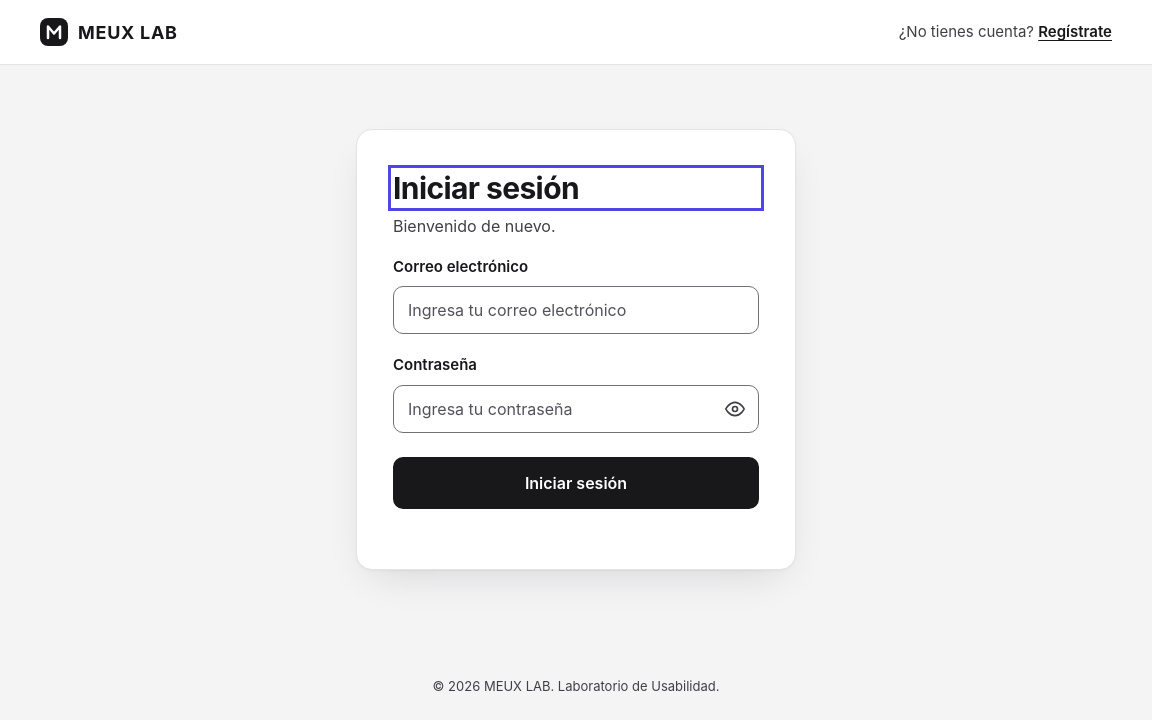
it: LoginScreen › does not display accesibility violations (axe) in normal or error alert states
Type "usuario@correo.com" into the field labelled "Correo electrónico" at {"x": 576, "y": 310}, box [393,286,759,334]
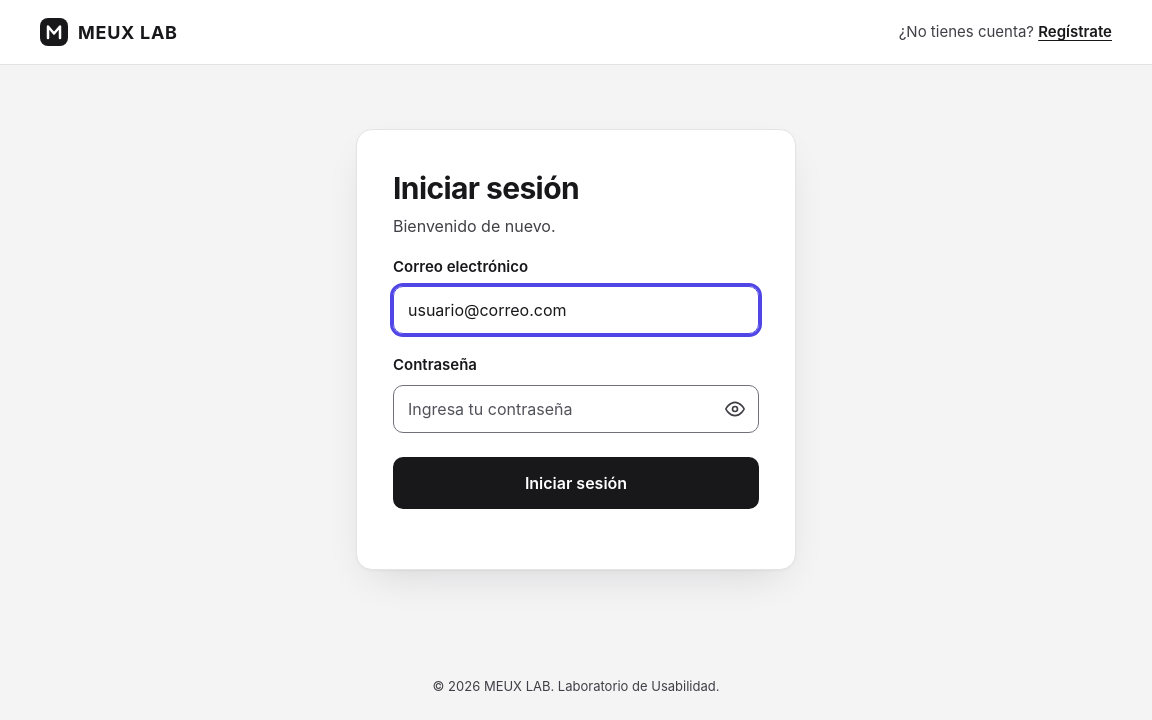
Type "clave-malvada" into the password field labelled "Contraseña" at {"x": 576, "y": 409}, box [393,385,759,433]
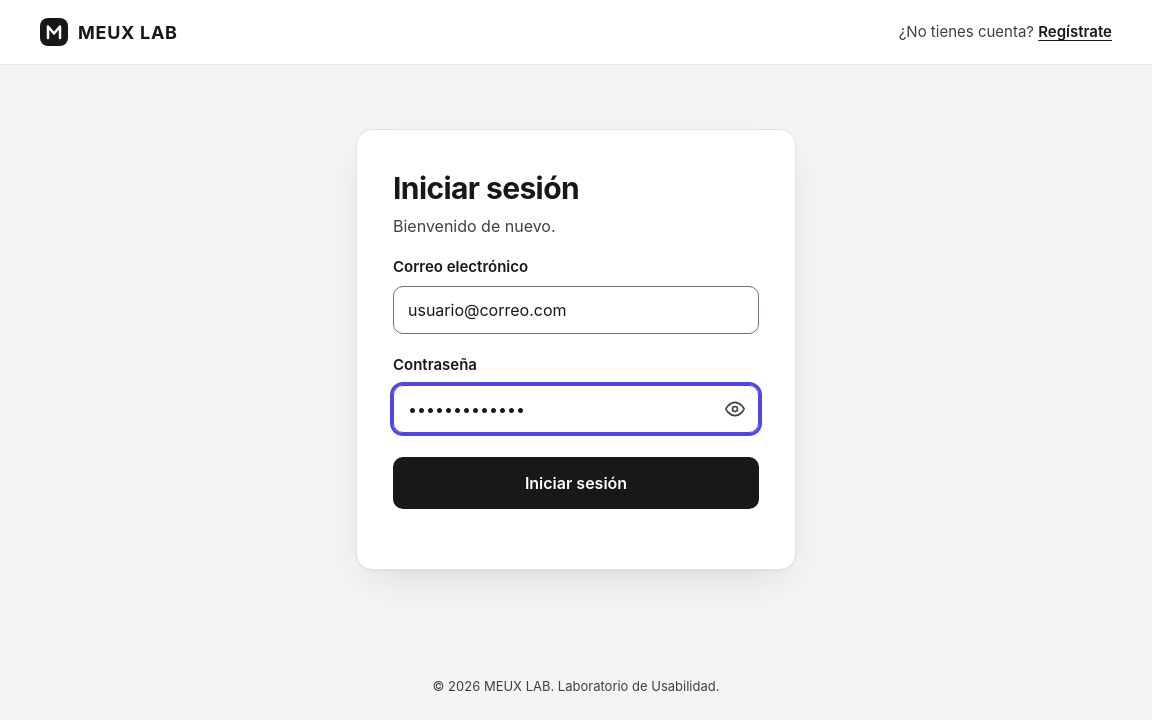
Click the button "Iniciar sesión" at {"x": 576, "y": 483}, box [393,457,759,509]
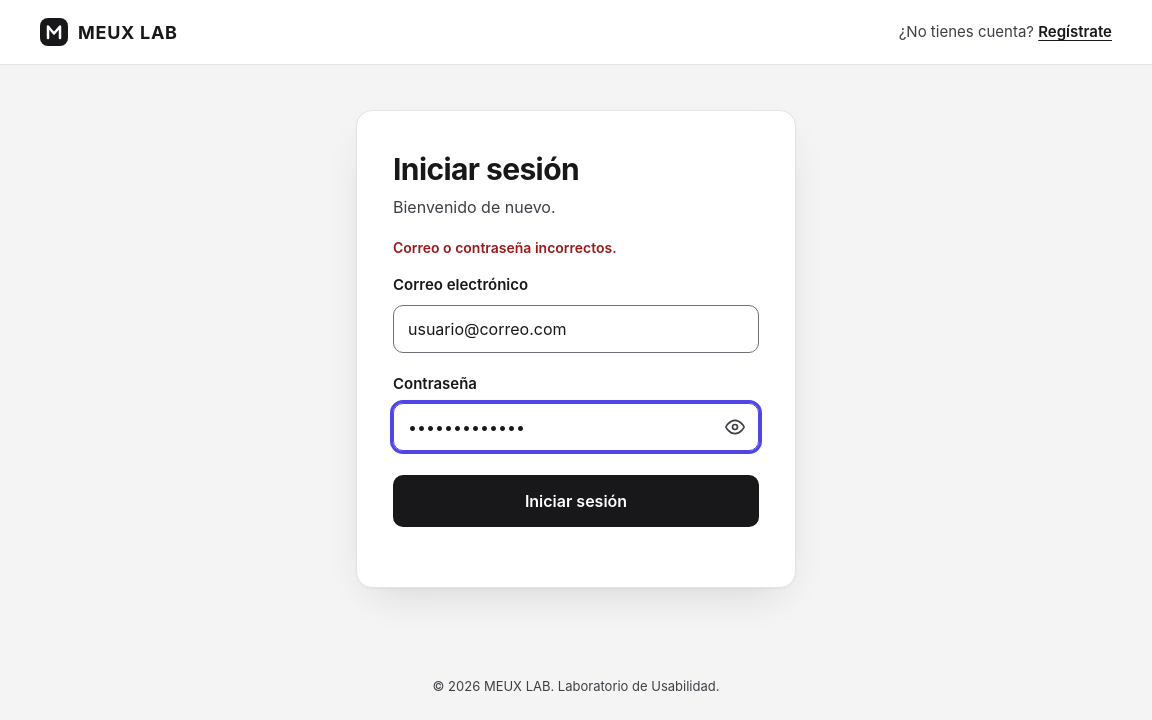
Check: the message "Correo o contraseña incorrectos." is shown, box [393,239,617,256]
